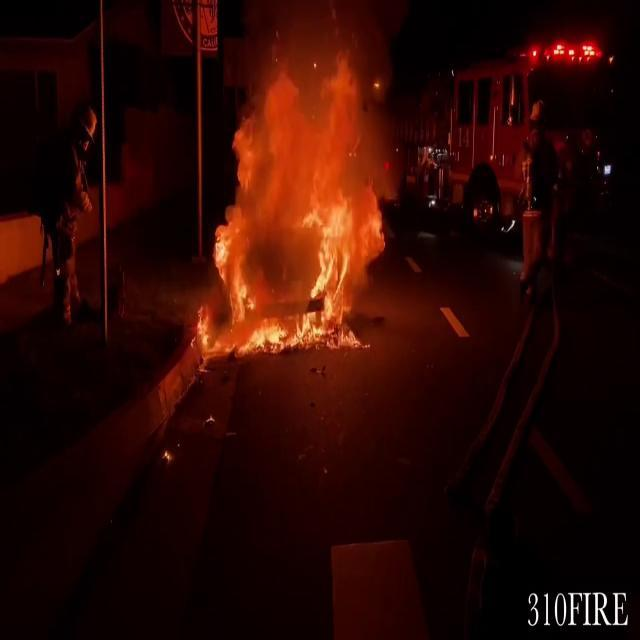Fire: (198, 19, 394, 354)
